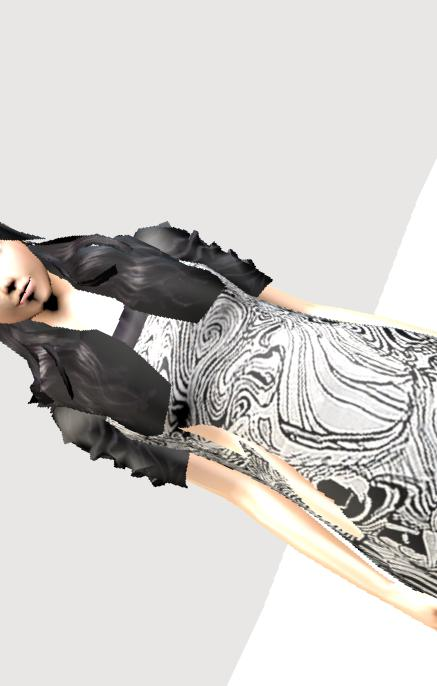clip: (180, 408, 262, 460)
